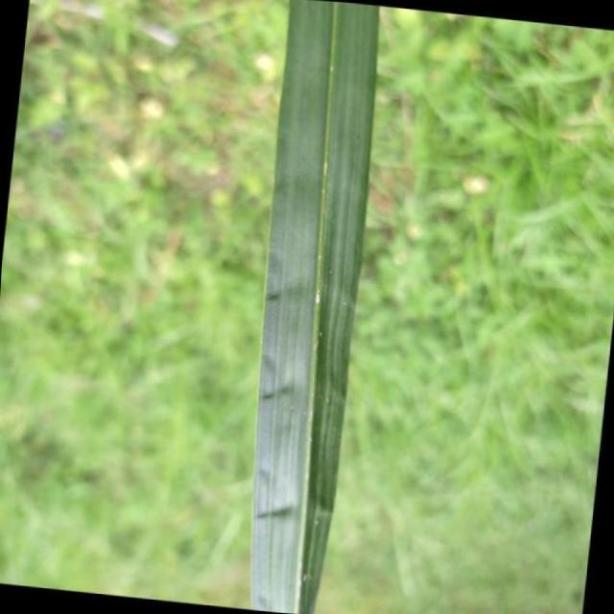Boron: (254, 0, 381, 614)
